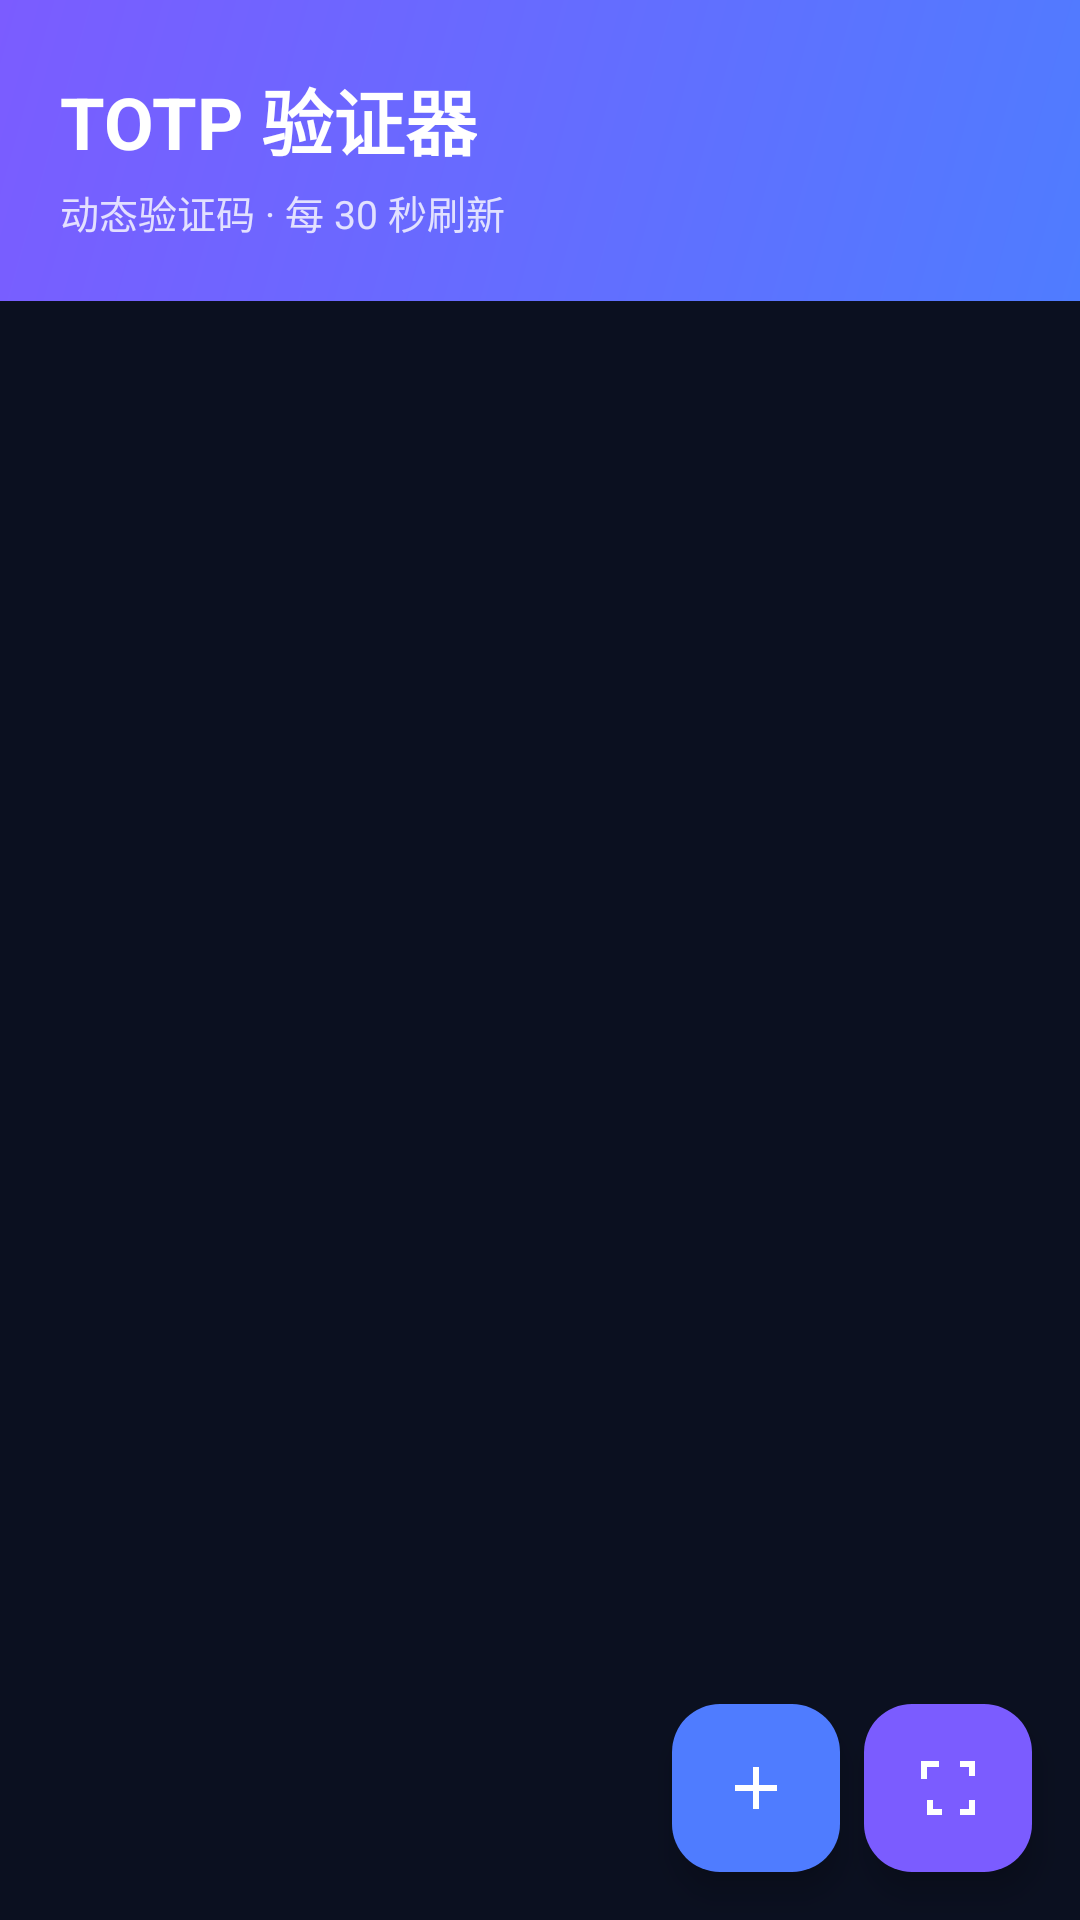

Icons on this 1080w x 1920h Android screen, each with its box as (x1, y1, x2, y2):
add: (672, 1704, 840, 1872)
scan: (864, 1704, 1032, 1872)
